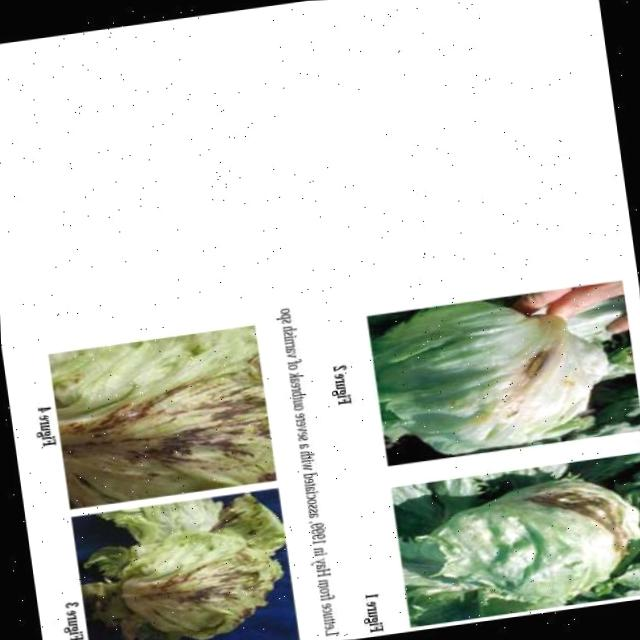Healthy: (396, 454, 640, 621), (376, 306, 618, 460), (59, 348, 271, 493), (102, 532, 264, 638)
